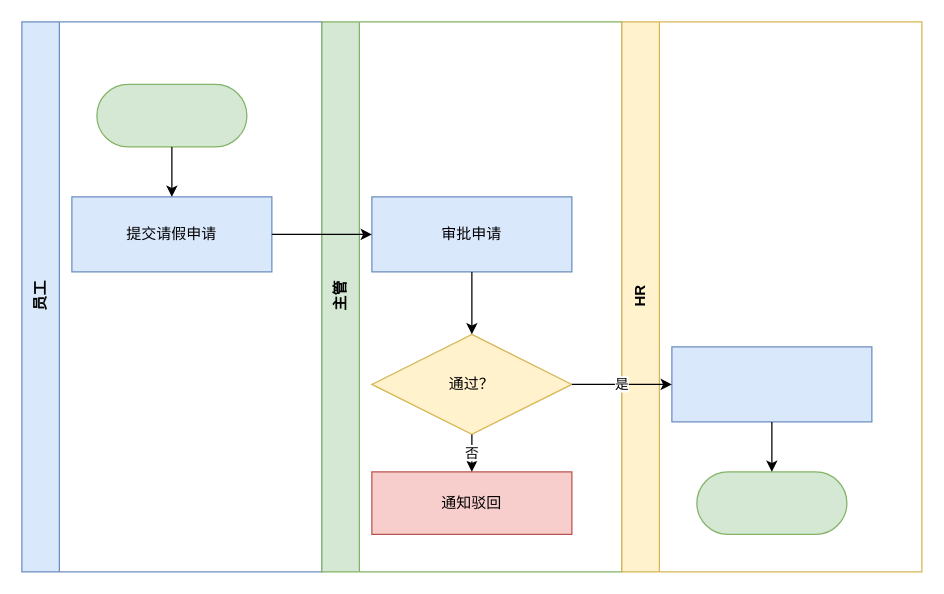
This 944x594 diagram has some shape labels left out. The shapes that lost their labels are listed below. From the top down, each one's centre as x and y in pixels, then its label:
the point at 171,115: 开始
the point at 771,384: 登记假期
the point at 771,502: 结束
